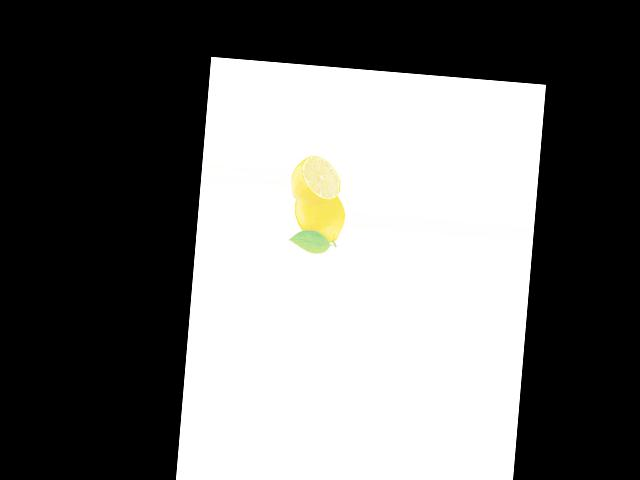lemon: (290, 191, 347, 248)
